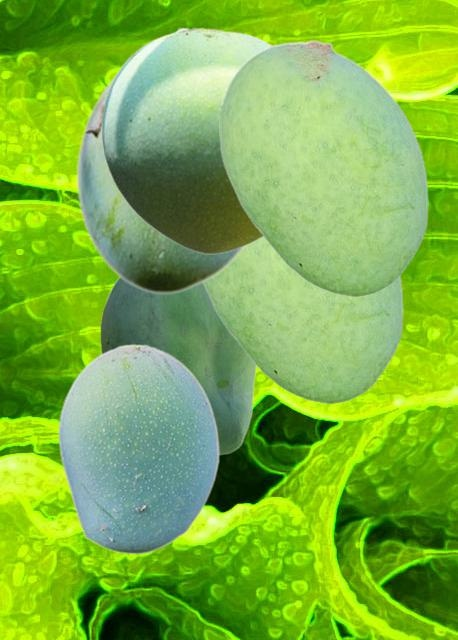green_mango: (219, 39, 427, 295), (101, 26, 273, 253), (75, 67, 247, 293), (57, 343, 219, 554), (201, 238, 402, 402), (100, 278, 256, 454)
